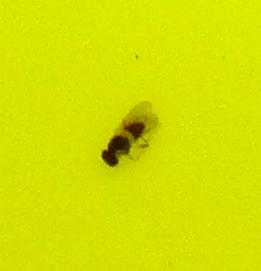Brachycera: (100, 100, 161, 171)
